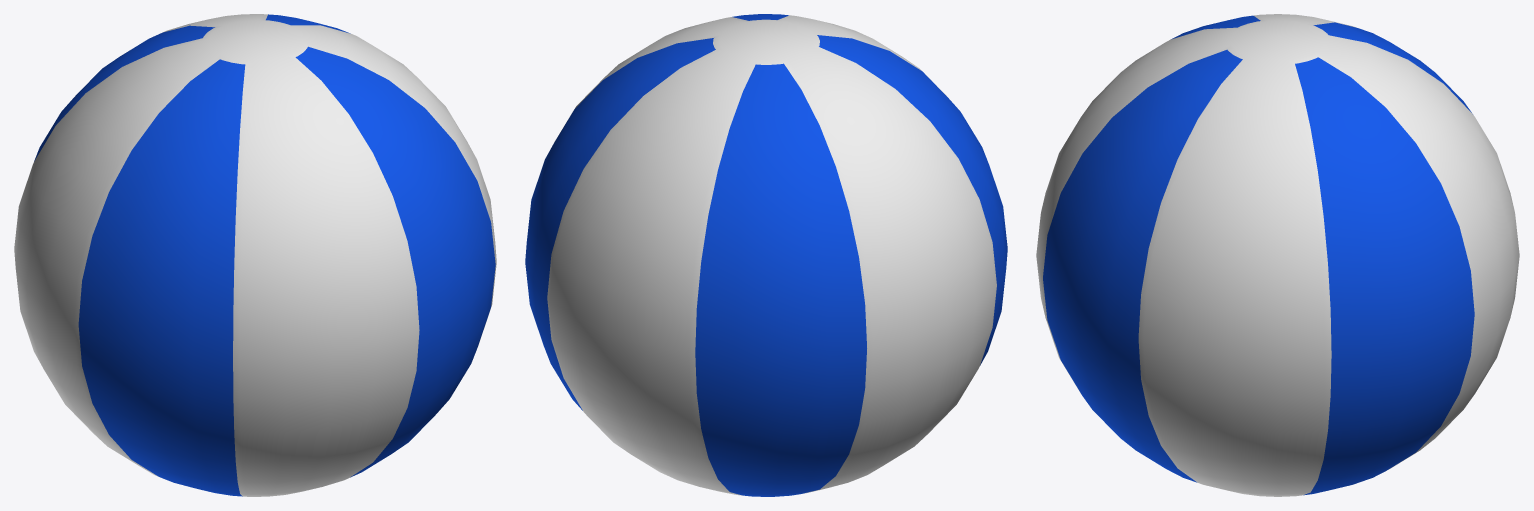
The picture shows the model from 3 angles, left to right: view 1: azimuth 30°, elevation 25°; view 2: azimuth 150°, elevation 25°; view 3: azimuth 270°, elevation 25°; orthographic projection.
Parts seen in each view (by area): view 1: Sphere; view 2: Sphere; view 3: Sphere.
Part boxes in pixels (x1,y1,x2,y2): Sphere: (14,14,496,496); Sphere: (525,14,1007,496); Sphere: (1036,14,1519,496).
Size of the model in its own units: 2 by 2 by 2.
